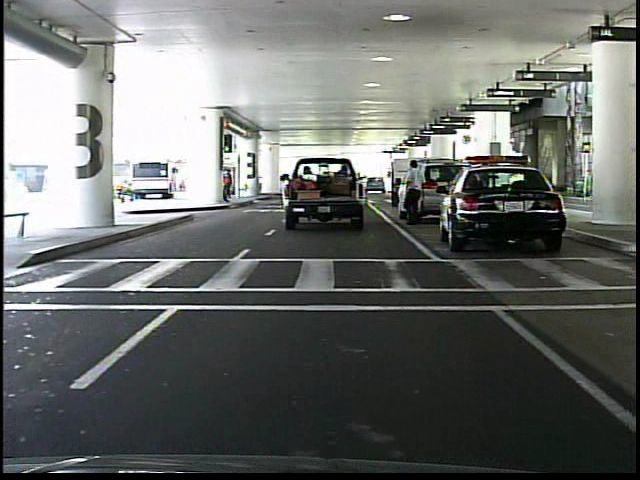person: (401, 157, 429, 227), (223, 161, 237, 202)
